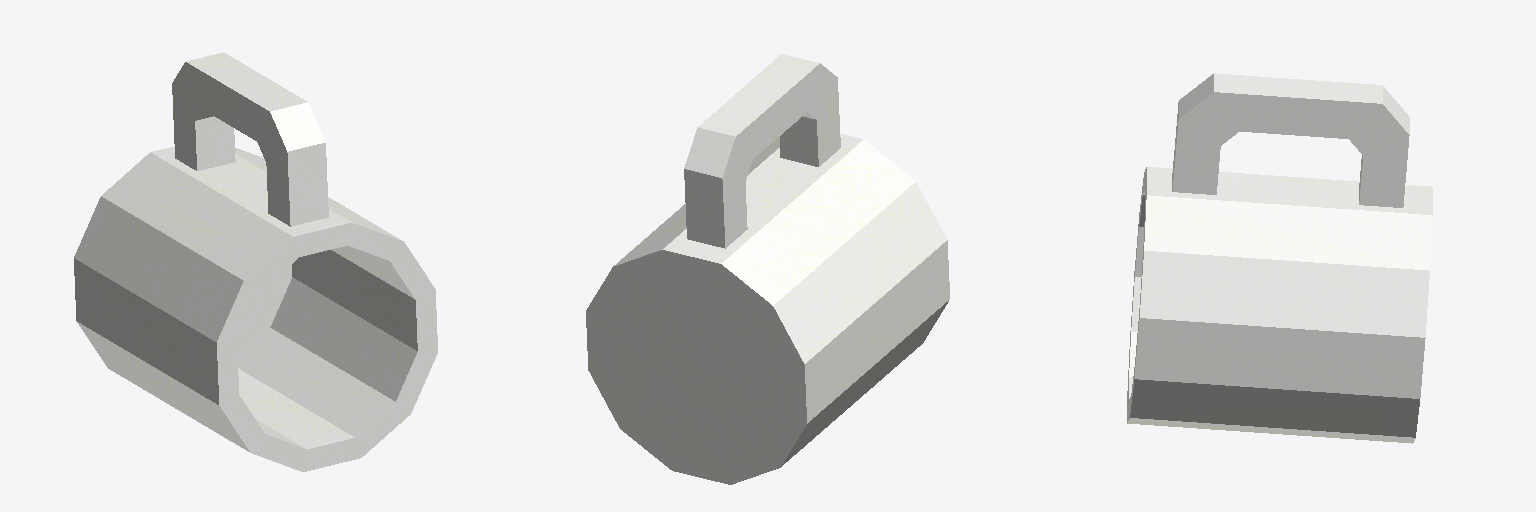
File: model_align.obj
The picture shows the model from 3 angles: view 1: azimuth 30°, elevation 25°; view 2: azimuth 150°, elevation 25°; view 3: azimuth 270°, elevation 25°; orthographic projection.
Size of the model in its own units: 0.0833 by 0.126 by 0.1006.